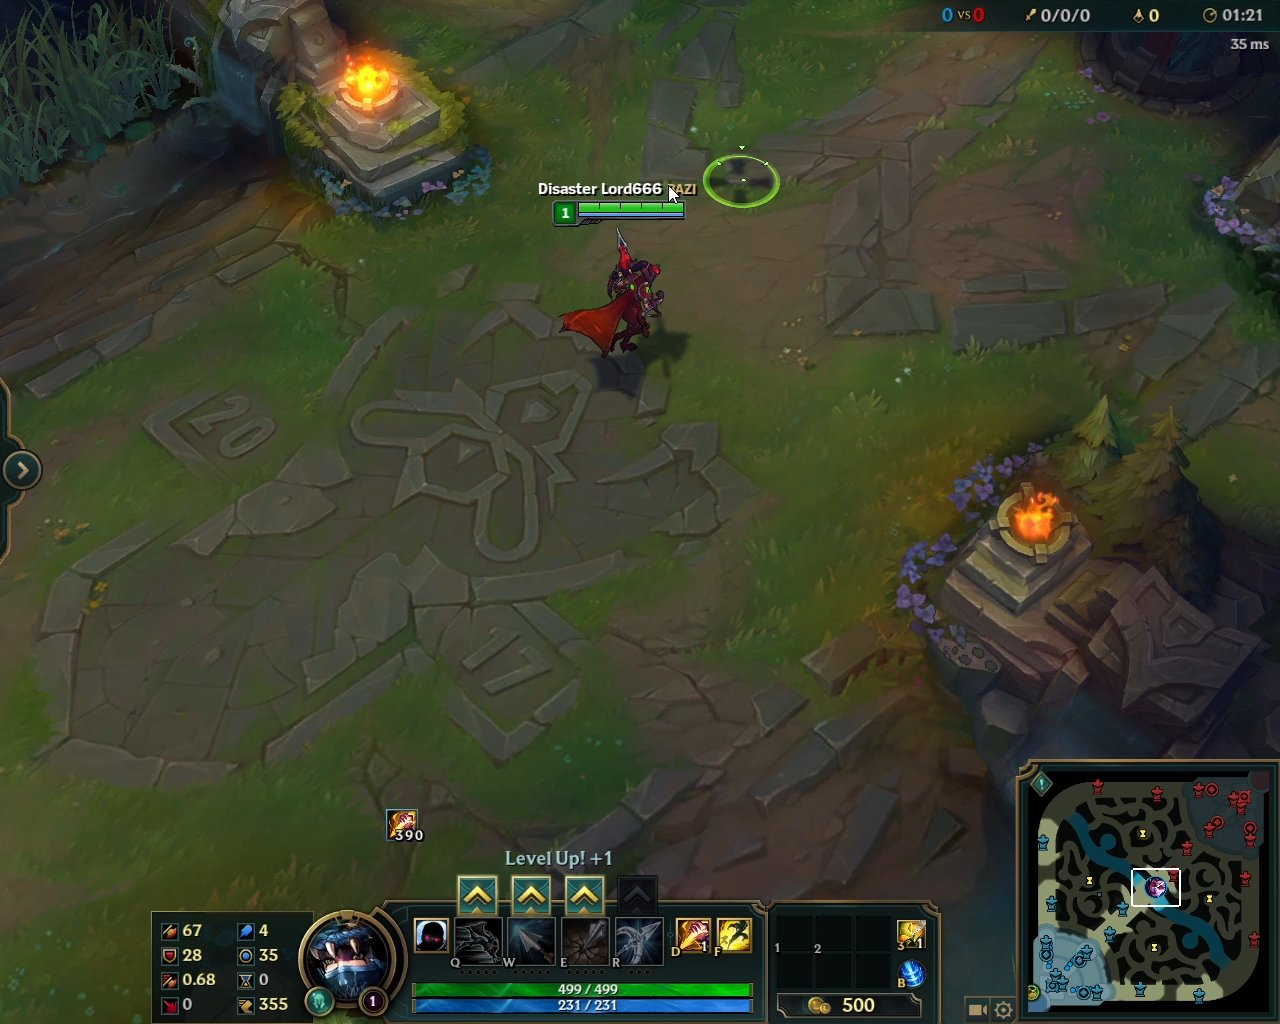Vayne: (551, 224, 669, 363)
